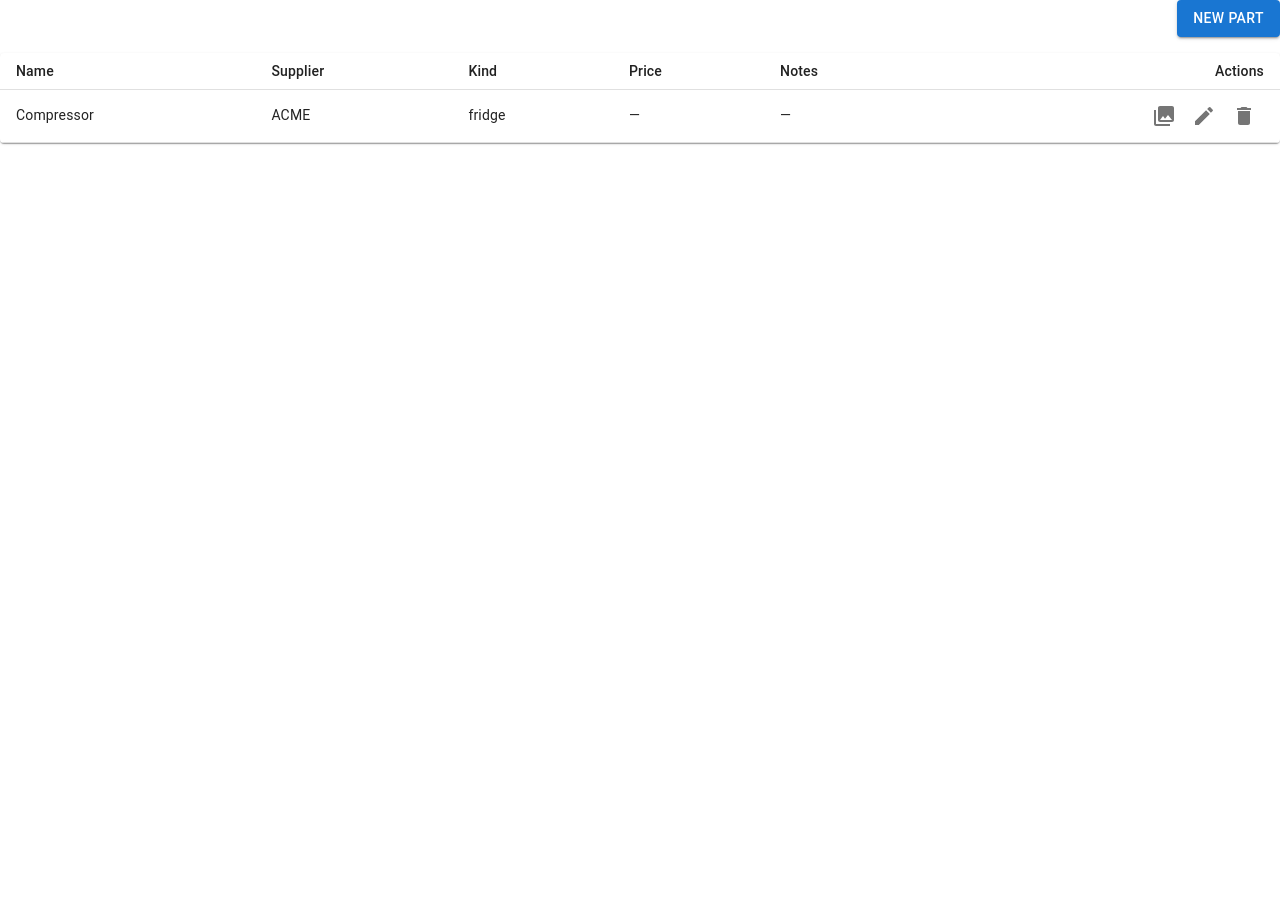
it: PartsManager pictures › shows pictures inside the edit dialog for an existing part
The width and height of the screenshot is (1280, 900).
Check: the text "Compressor" is shown, box 0,89 -> 255,142
Click the button named "Edit Compressor". click: (1204, 116)
box: 1184,96 -> 1224,136
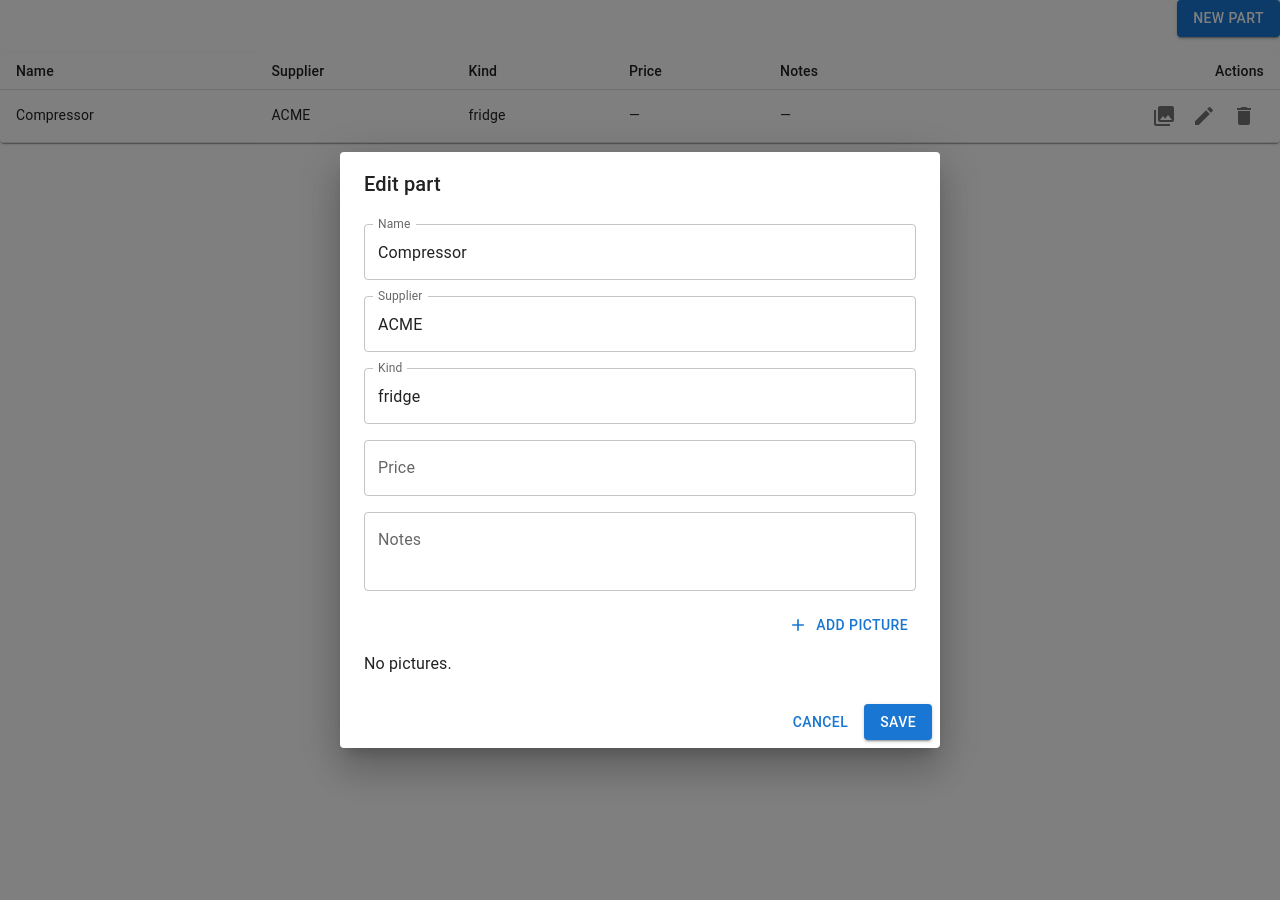
Check: the button "Add picture" is shown, box 784,607 -> 916,644
